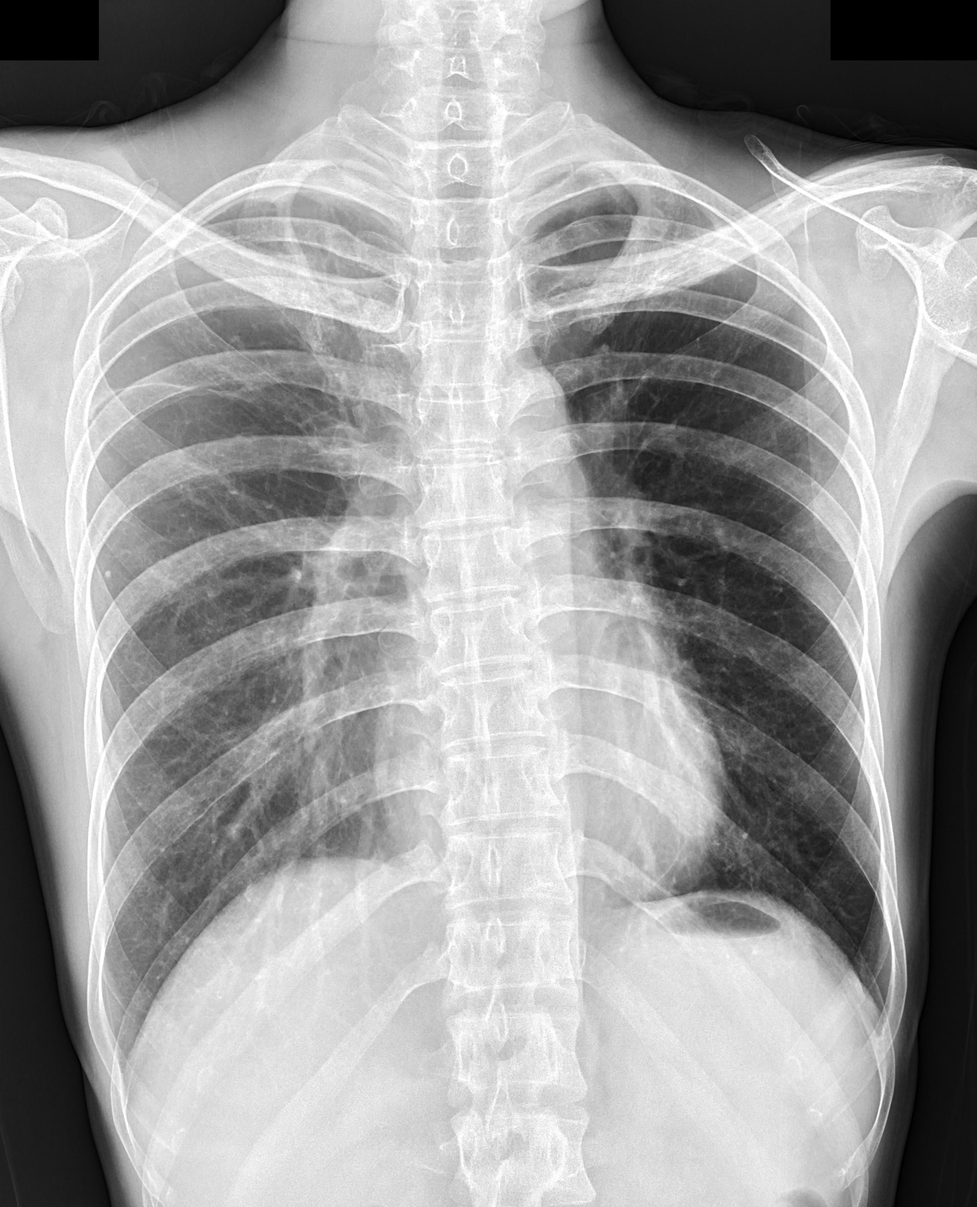Pulmonary fibrosis: (83, 371, 265, 426)
